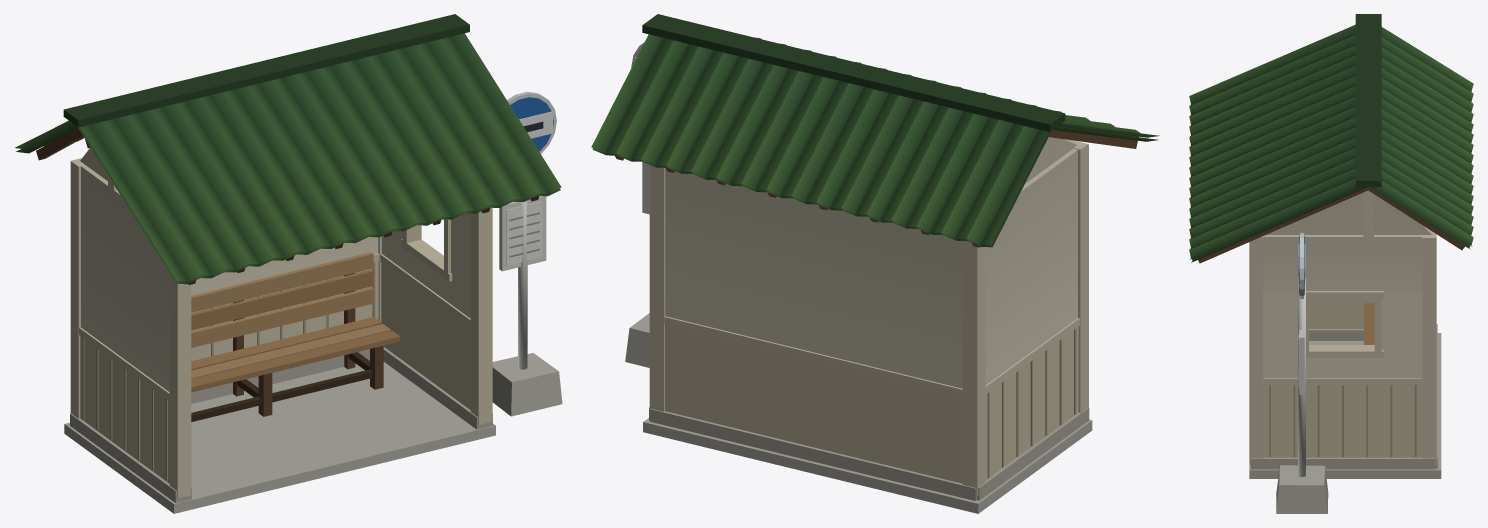
The model's file is busstop.glb.
The picture shows the model from 3 angles, left to right: view 1: azimuth 30°, elevation 25°; view 2: azimuth 150°, elevation 25°; view 3: azimuth 270°, elevation 25°; orthographic projection. The views are drawn at different scales.
Visible parts, largest first — view 1: busstop; view 2: busstop; view 3: busstop.
Boxes of the visible parts, x1=… form: busstop: x1=15, y1=14, x2=562, y2=513; busstop: x1=591, y1=14, x2=1159, y2=513; busstop: x1=1189, y1=14, x2=1473, y2=513.
Bounding box in the file's own units: 3.86 × 2.95 × 2.43.
